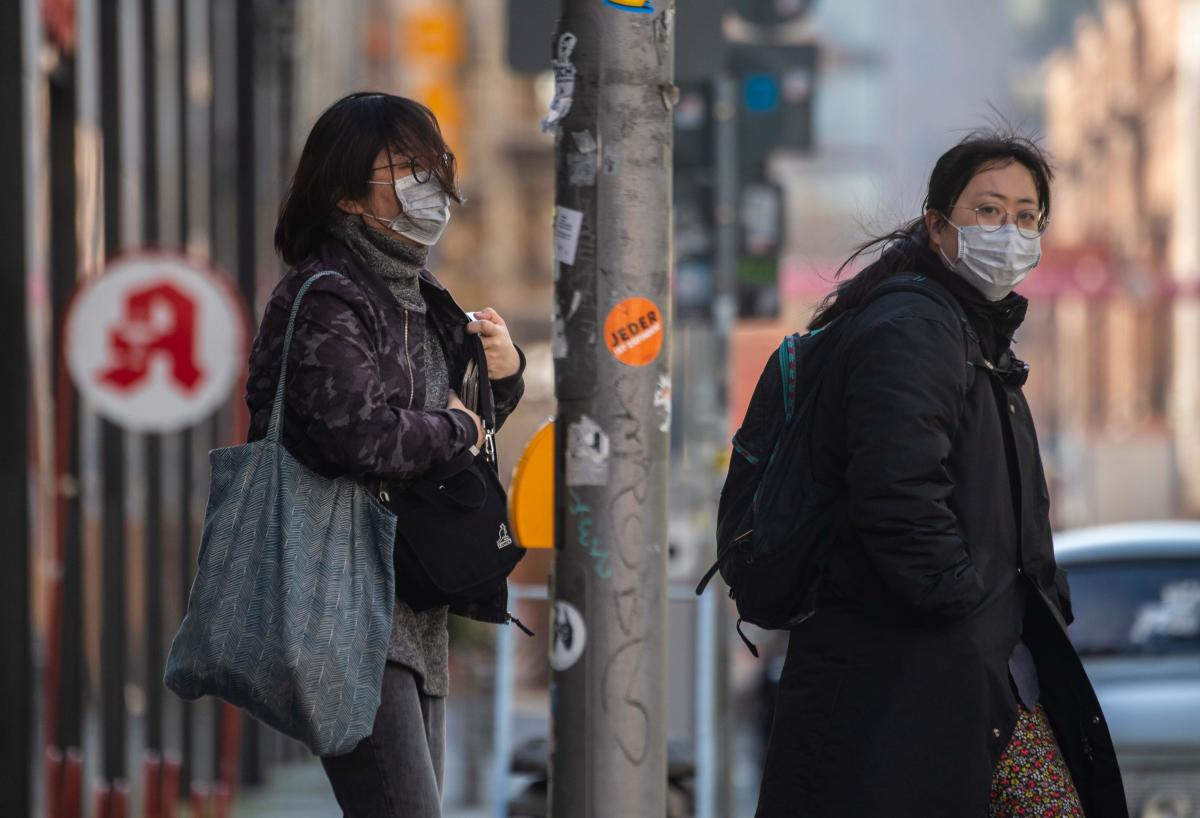Person: (692, 96, 1148, 818), (194, 90, 546, 818)
